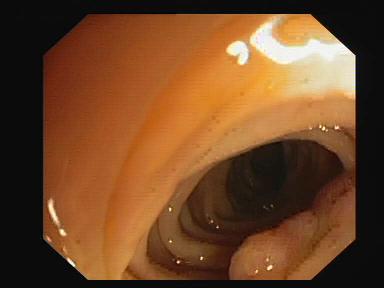polyp: (228, 211, 320, 279), (314, 172, 357, 213)
